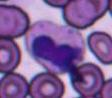N: (26, 22, 85, 73)
